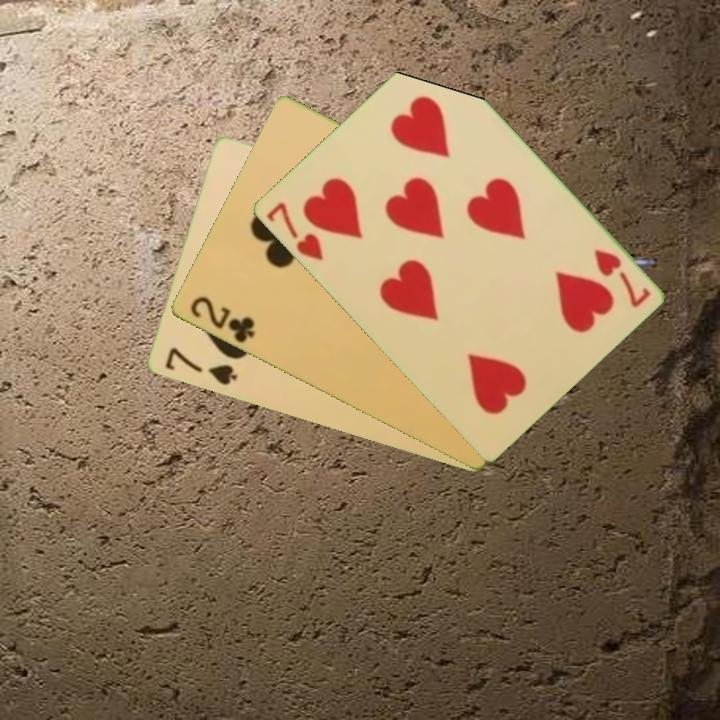2c: (186, 292, 257, 347)
7h: (262, 198, 326, 264), (590, 245, 653, 311)
7s: (161, 344, 240, 389)
